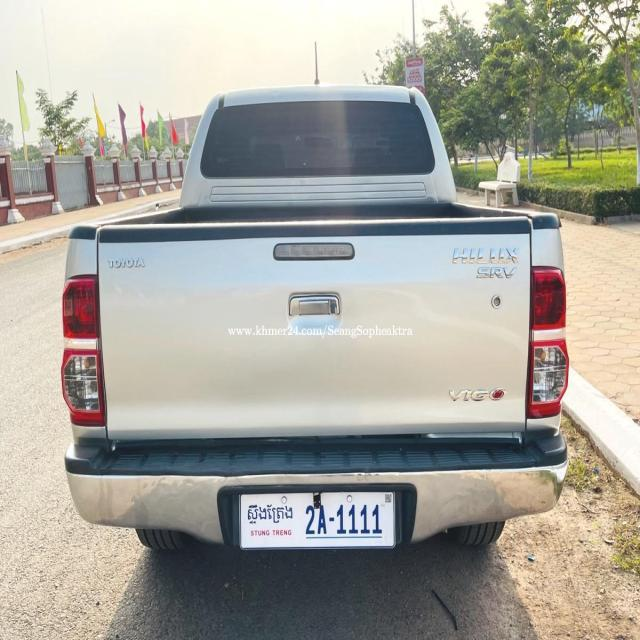Stung_Treng: (246, 502, 294, 527)
